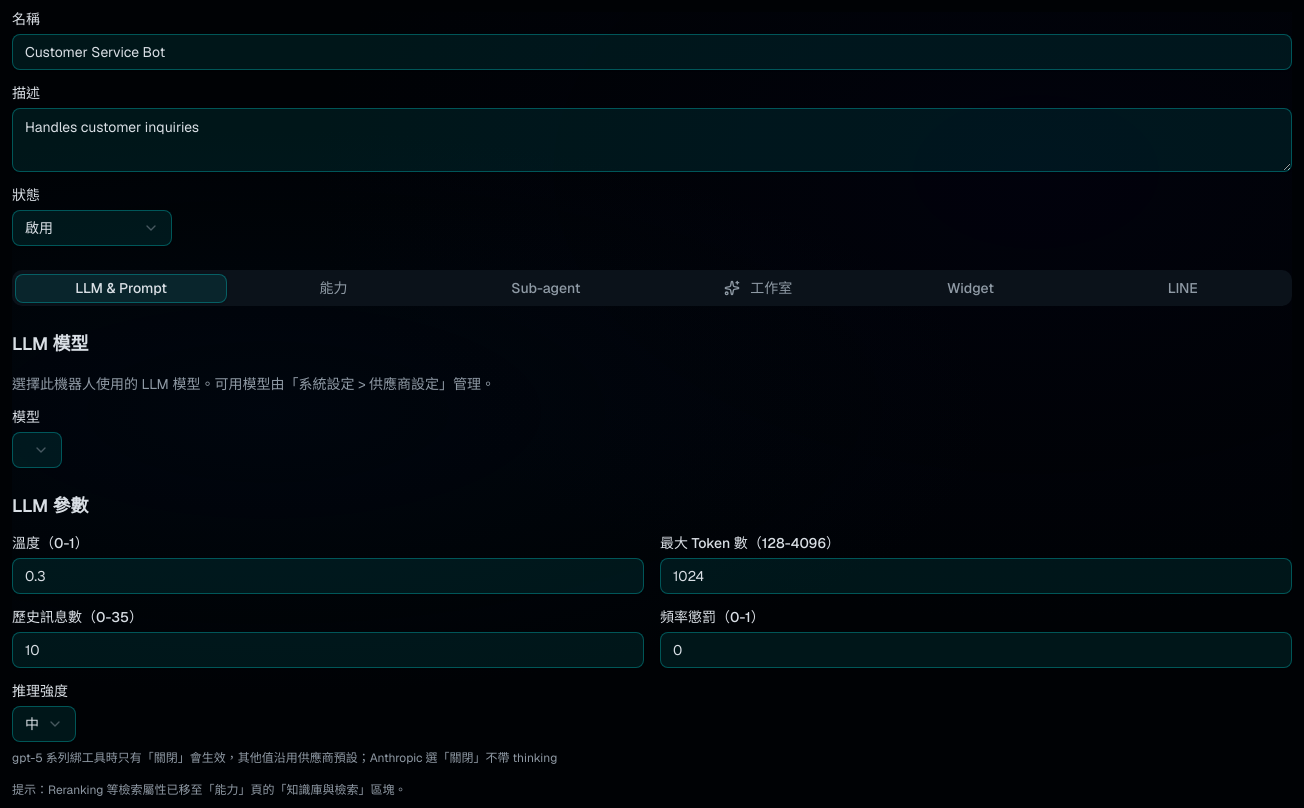
it: BotDetailForm › should render both built-in tool checkboxes in 能力 tab
The image size is (1304, 808).
Click the tab "能力".
click(333, 288)  # box [227,274,440,302]
(page scrolled)
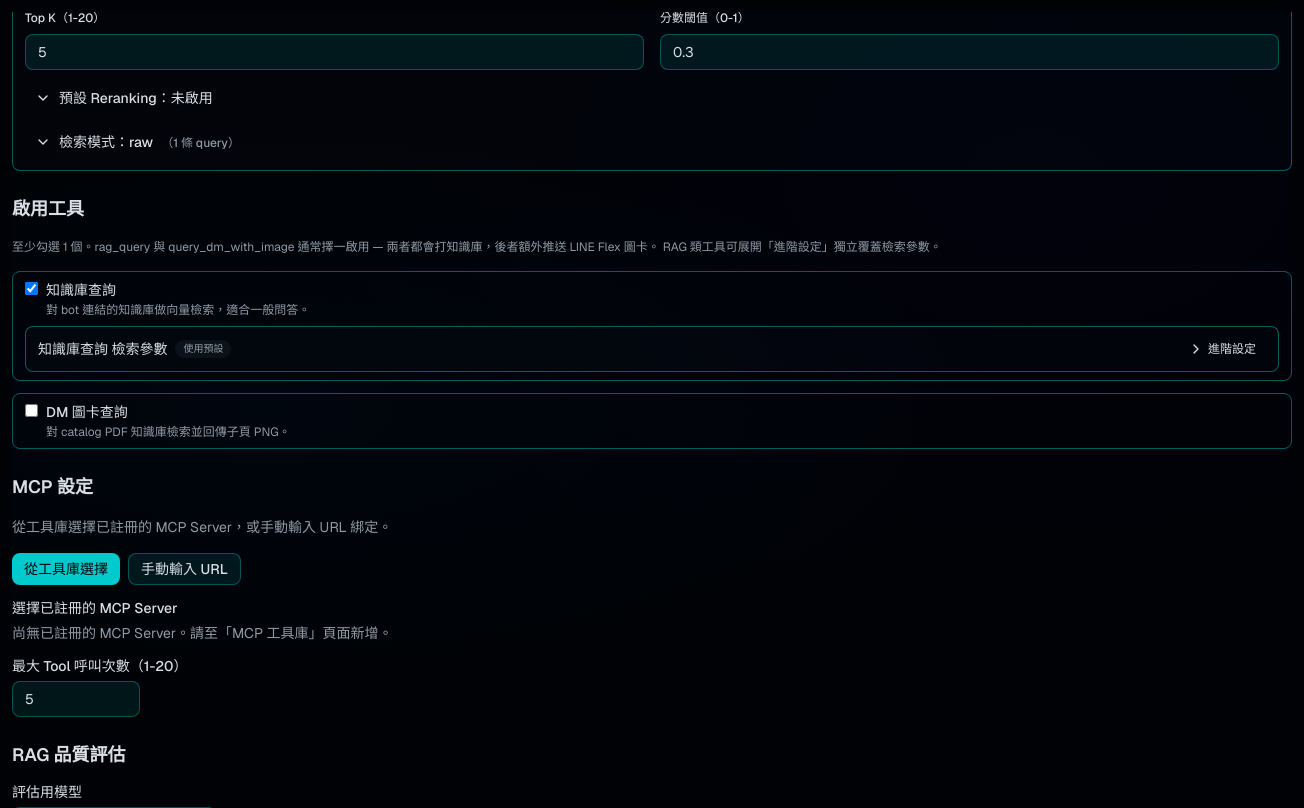
Check: the text "知識庫查詢" is shown, box [46,281,116,299]
Check: the text "DM 圖卡查詢" is shown, box [46,403,128,421]
